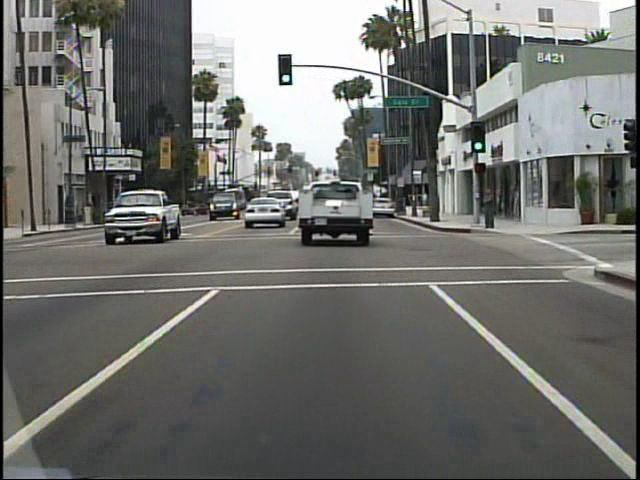person: (479, 179, 499, 233)
